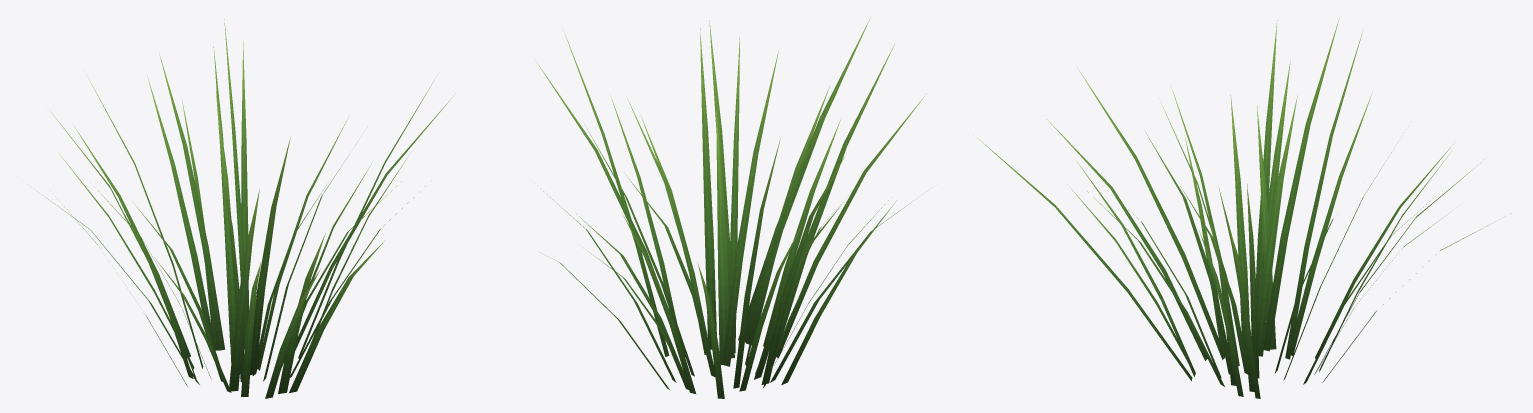
Rendered from Short_grass.lod1.glb.
3 renders of one model, left to right at view 1: azimuth 30°, elevation 25°; view 2: azimuth 150°, elevation 25°; view 3: azimuth 270°, elevation 25°, orthographic. The views are drawn at different scales.
Parts seen in each view (by area): view 1: Grass; view 2: Grass; view 3: Grass.
Part boxes in pixels (x1,y1,x2,y2): Grass: (30,19,455,398); Grass: (536,17,924,398); Grass: (973,18,1511,398).
Bounding box in the file's own units: 0.4148 × 0.2766 × 0.4679.
1 material, 1 textured.
